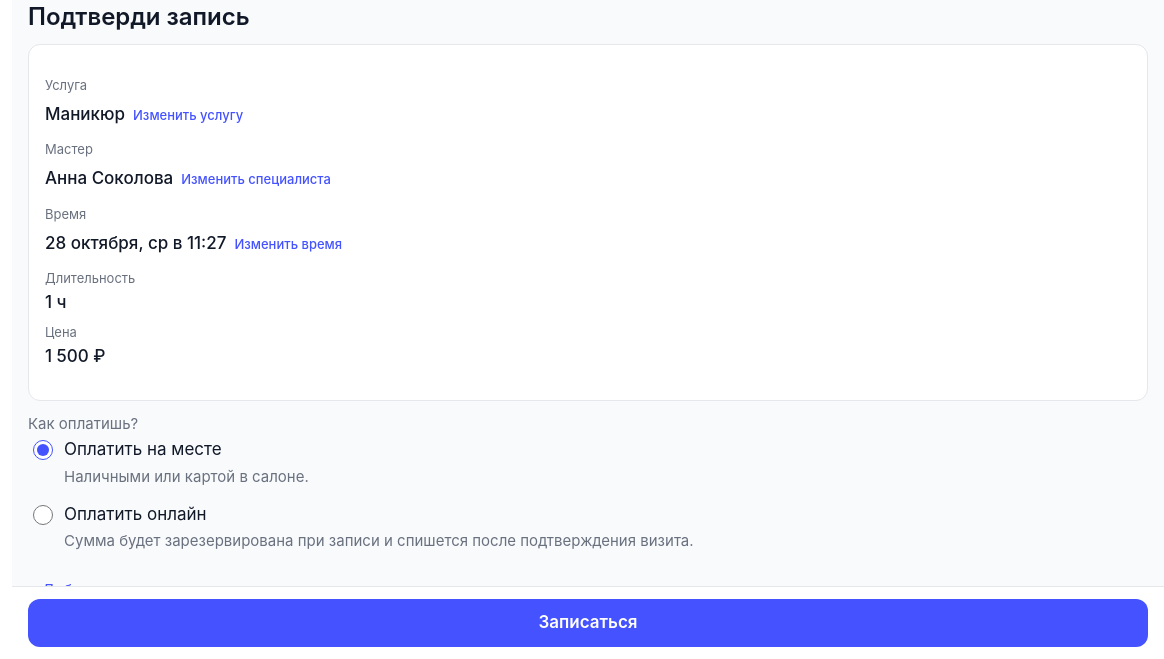
Scenario: MATERIAL_CHANGE — было → стало, новое подтверждение (D4) › длительность изменилась: своё поле, своя фраза
Check: the text "1 500 ₽" is shown, box [45, 346, 106, 366]
Click the button "Записаться". click: (588, 623)
box: [28, 599, 1148, 647]
(page scrolled)
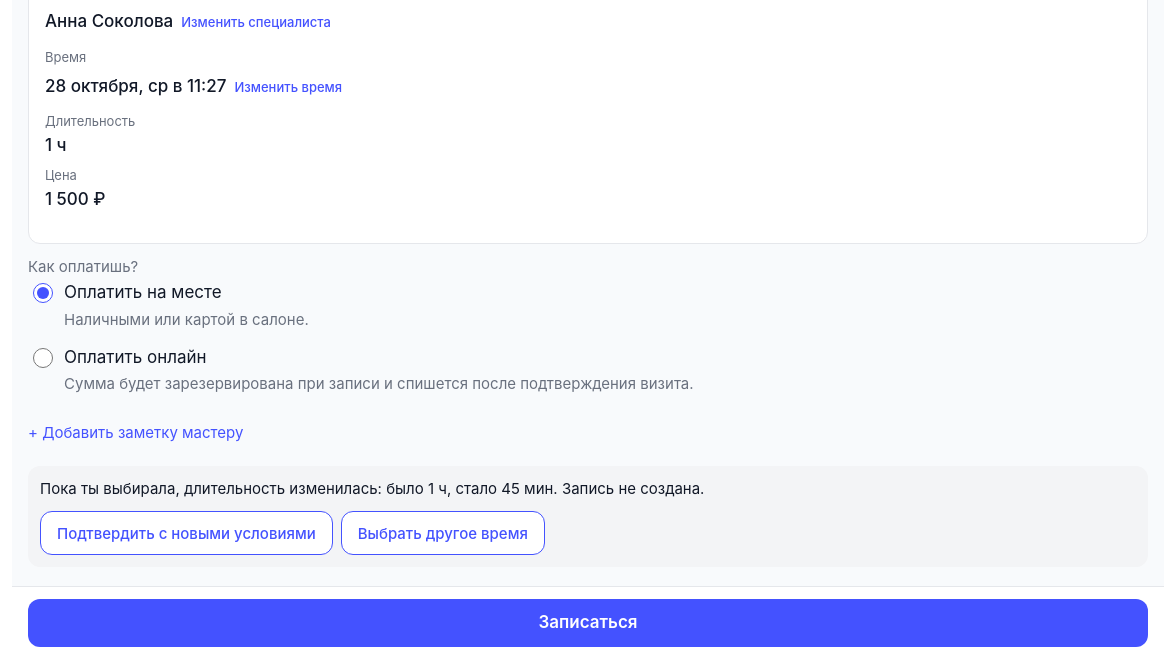
Check: the message with test id "quote-changed" shows "длительность изменилась: было 1 ч, стало 45 мин", box [40, 480, 558, 498]
Click the button "Подтвердить с новыми условиями". click: (186, 534)
box: [40, 512, 333, 556]
(page scrolled)
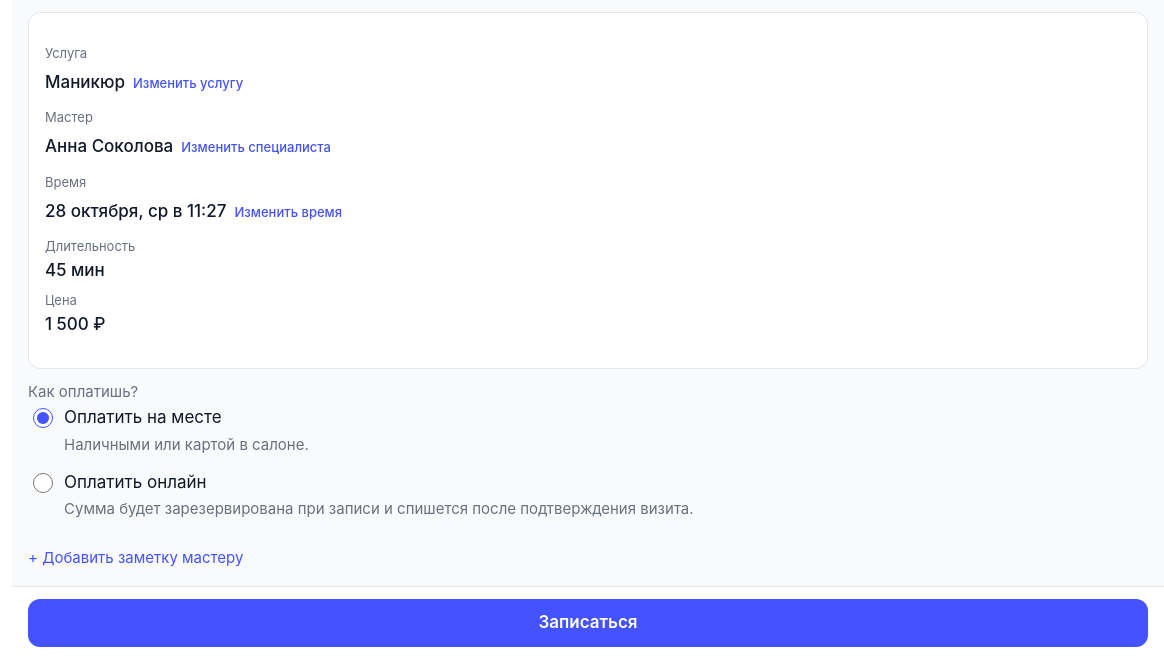
Check: the text with test id "confirm-price" reads "1 500 ₽", box [45, 314, 106, 334]
Check: the text with test id "confirm-duration" reads "45 мин", box [45, 260, 105, 280]
